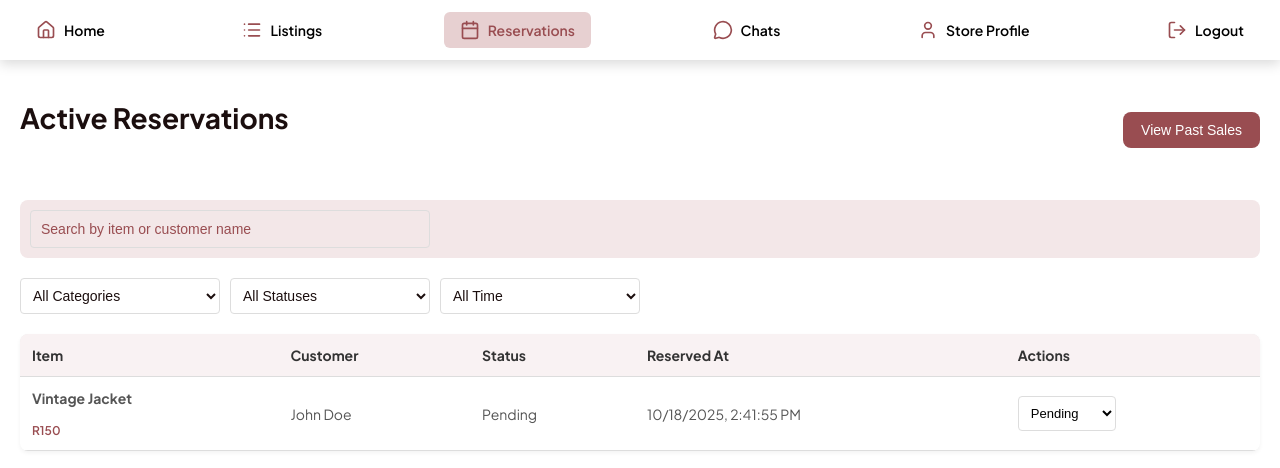
StoreReservations › Search and Filtering › filters by category
expect the text "Vintage Jacket" is shown: met, box [32,389,132,407]
Select "footwear" in the 1st dropdown showing "All Categories" at (120, 296), box [20,278,220,314]
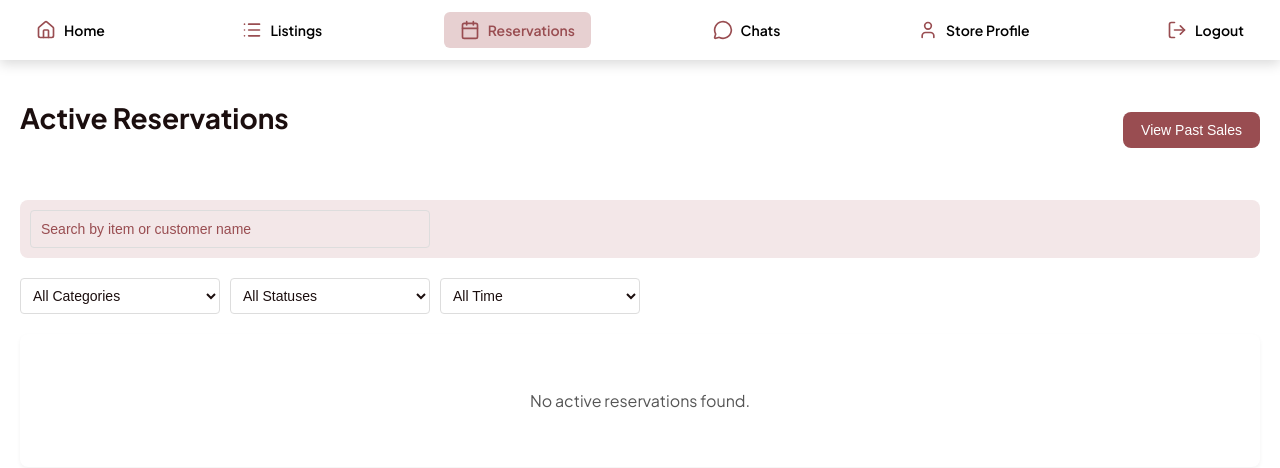
expect the text "Vintage Jacket" is not shown: met
